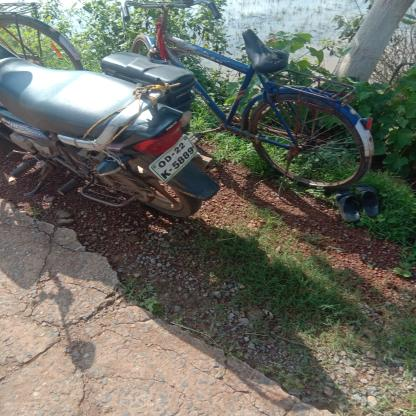bicycle: (96, 0, 403, 208)
